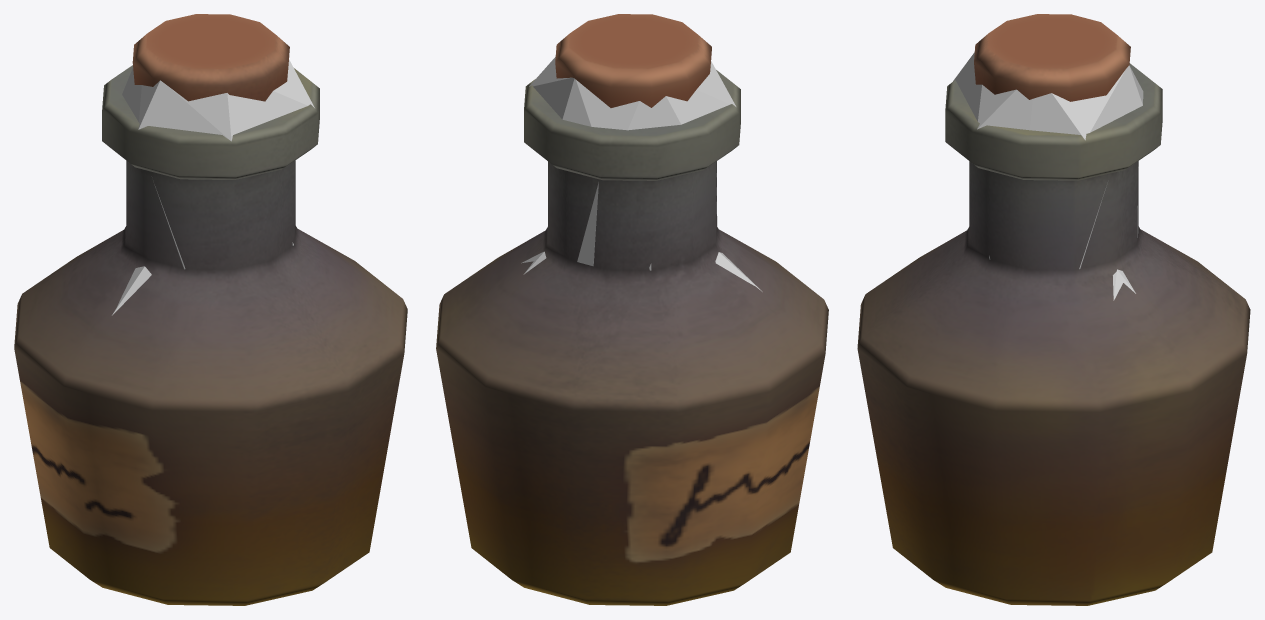
Rendered from SM_Bottle_b.fbx.
The picture shows the model from 3 angles, left to right: view 1: azimuth 30°, elevation 25°; view 2: azimuth 150°, elevation 25°; view 3: azimuth 270°, elevation 25°; orthographic projection.
Parts seen in each view (by area): view 1: SM_Bottle_b, SM_Bottle_b_ConvexHulls; view 2: SM_Bottle_b, SM_Bottle_b_ConvexHulls; view 3: SM_Bottle_b, SM_Bottle_b_ConvexHulls.
Boxes of the visible parts, <box> form: SM_Bottle_b: <box>14,14,407,605</box>; SM_Bottle_b_ConvexHulls: <box>112,59,314,315</box>; SM_Bottle_b: <box>436,14,828,605</box>; SM_Bottle_b_ConvexHulls: <box>521,57,762,291</box>; SM_Bottle_b: <box>857,14,1250,605</box>; SM_Bottle_b_ConvexHulls: <box>953,52,1143,300</box>.
Size of the model in its own units: 21.9 by 21.9 by 30.95.
2 materials, 1 textured.
